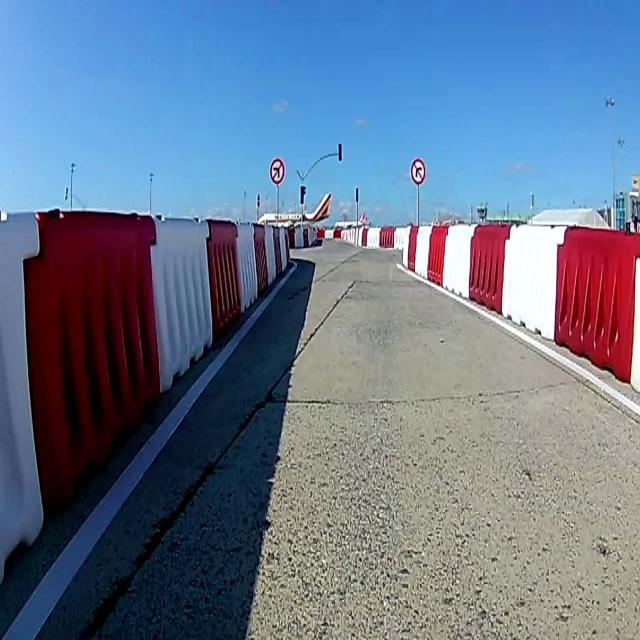sagadonulmez: (411, 158, 426, 184)
soladonulmez: (271, 159, 285, 184)
